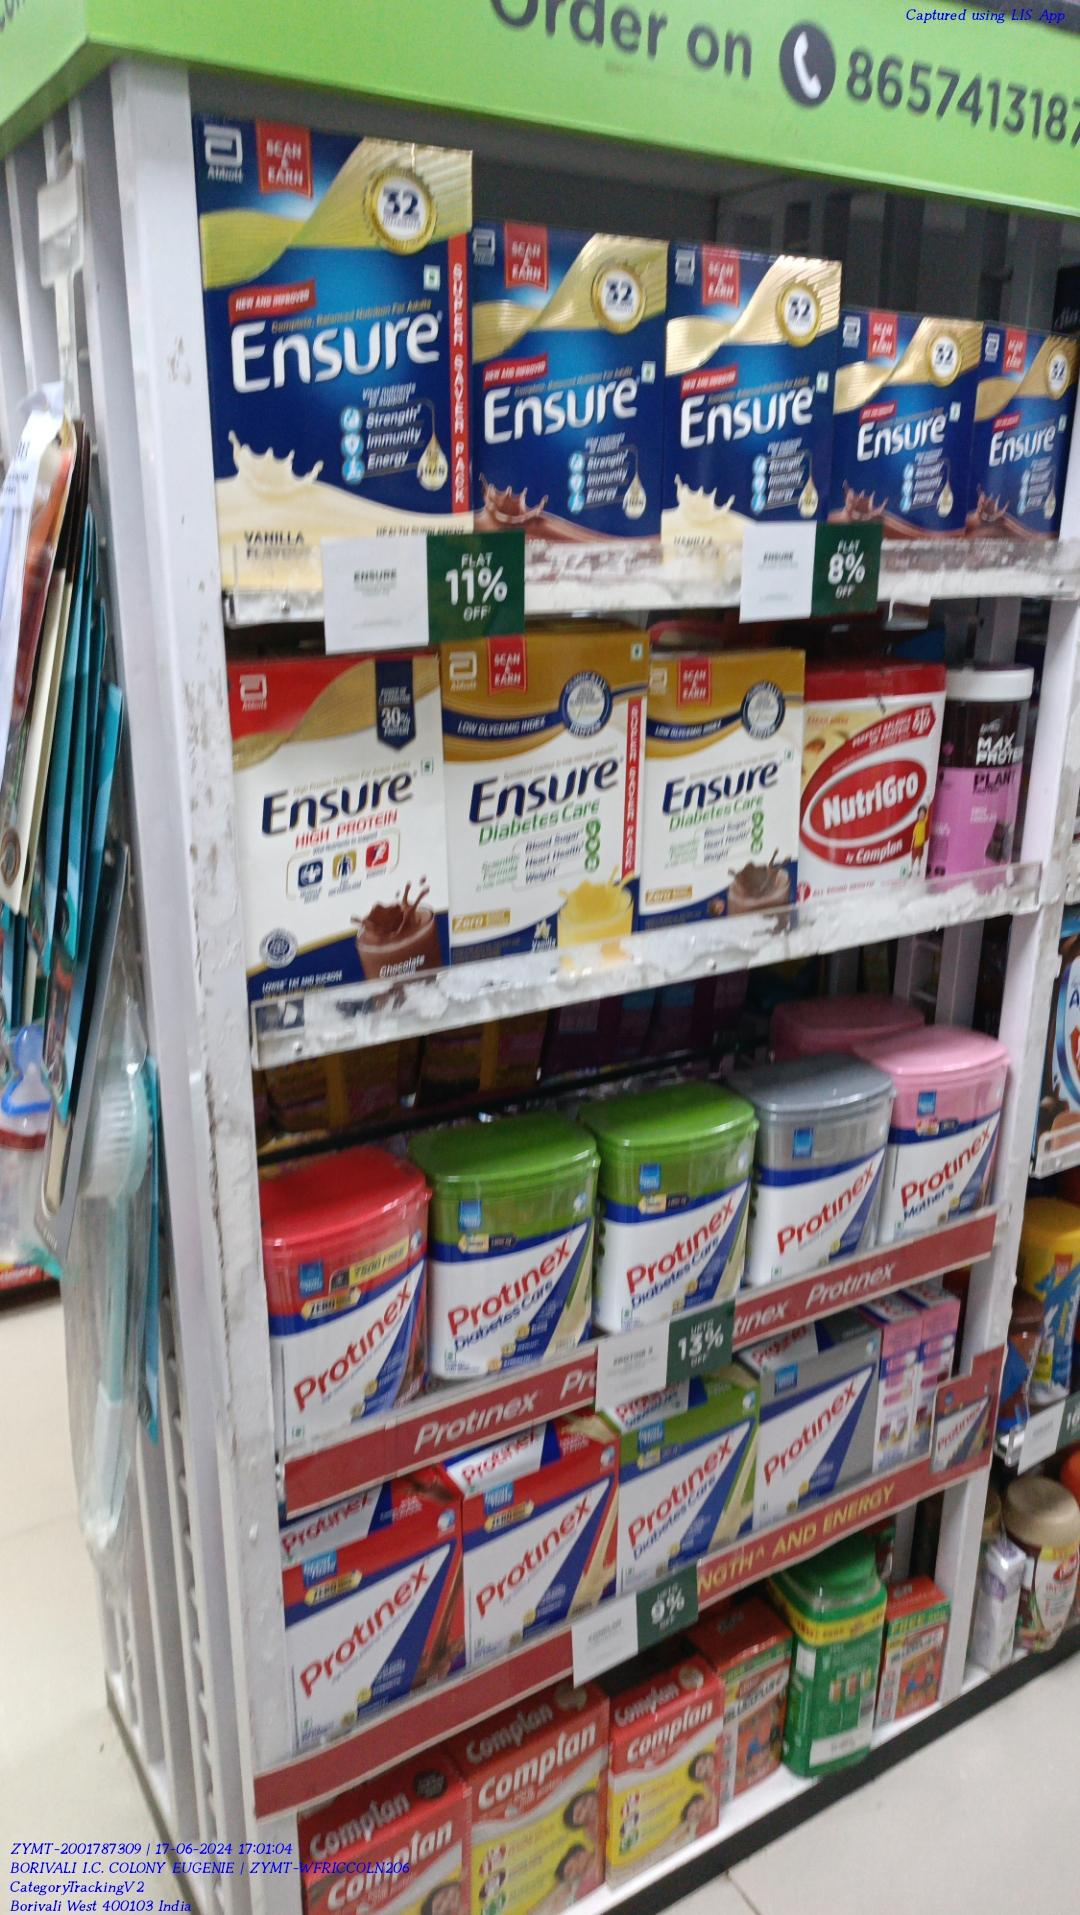COMPLAN_KESAR_BADAM_500_GMS_PACK: (478, 1732, 606, 1915), (616, 1703, 718, 1882)
ENSURE_VANILLA_400_G_PACK: (474, 220, 662, 537), (668, 242, 814, 517)
PROTINEX_CHOCOLATE_400_G_JAR: (275, 1148, 430, 1422)
PROTINEX_ORIGINAL_400_G_JAR: (762, 1089, 892, 1301)
